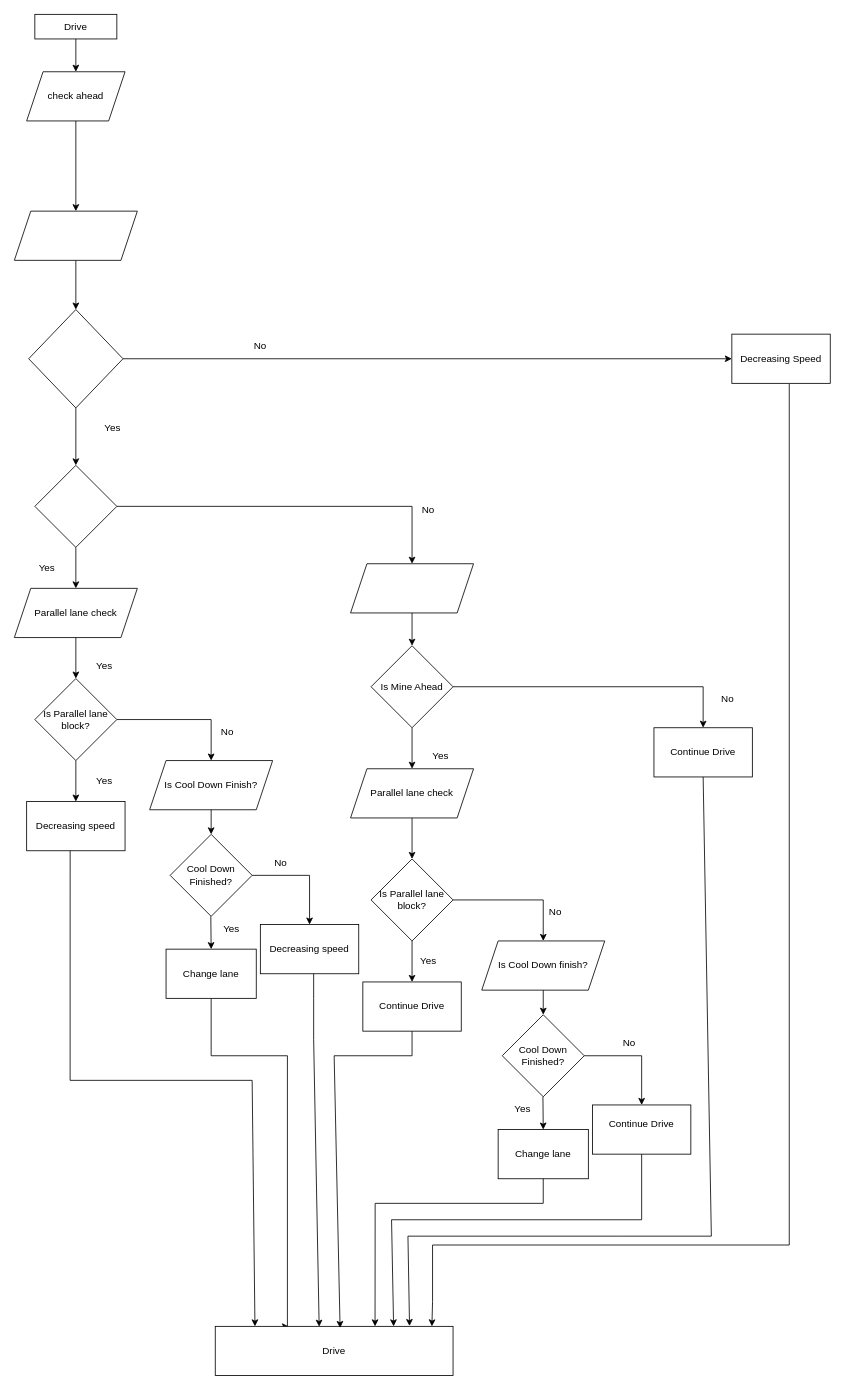
This 845x1390 diagram has some shape labels left out. Here are the shapes that lost their labels. From the top down, the centre of each, then its label:
point (75, 235): Check is changing lane
point (75, 358): Changing lane?
point (75, 506): Slow Vehicle ahead?
point (412, 588): Check Mines
